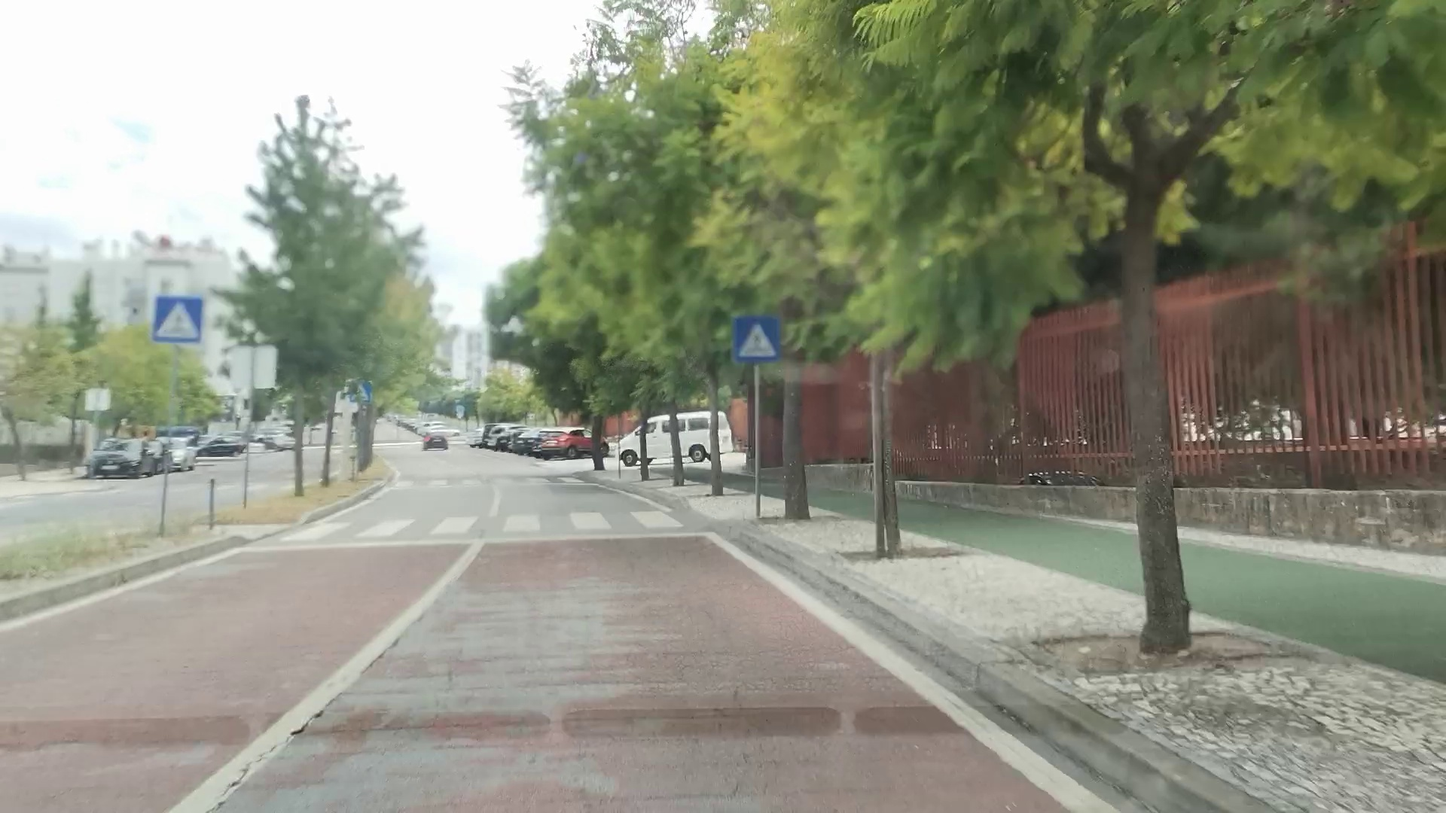Stairs: (279, 508, 684, 545)
